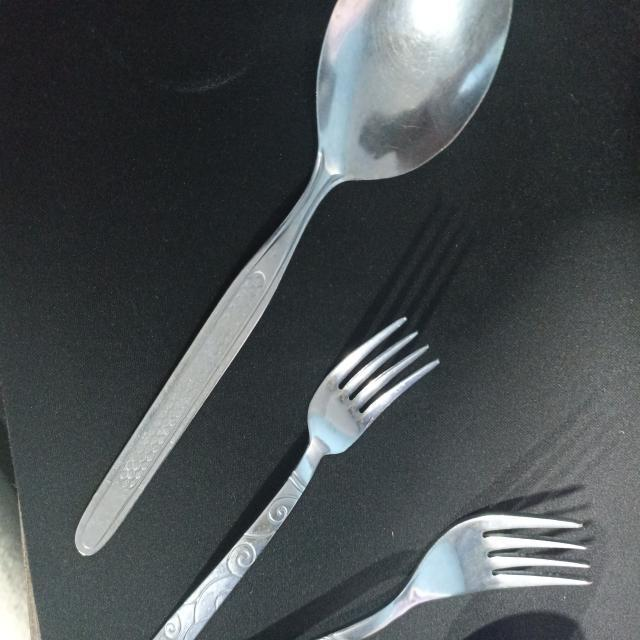spoon: (75, 1, 514, 556), (152, 316, 439, 640), (316, 511, 592, 640)
